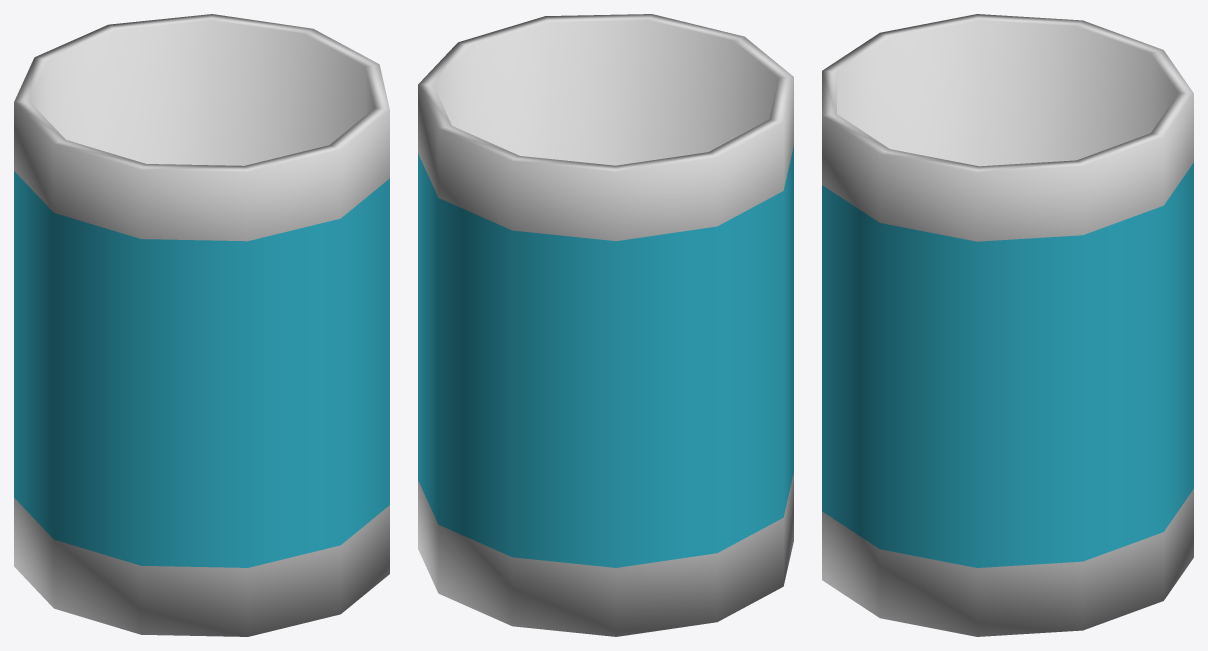
File: pills.fbx
The picture shows the model from 3 angles, left to right: view 1: azimuth 30°, elevation 25°; view 2: azimuth 150°, elevation 25°; view 3: azimuth 270°, elevation 25°; orthographic projection.
Visible parts, largest first — view 1: Cylinder.002; view 2: Cylinder.002; view 3: Cylinder.002.
Boxes of the visible parts, <box> form: Cylinder.002: <box>14,14,389,636</box>; Cylinder.002: <box>418,14,793,636</box>; Cylinder.002: <box>822,14,1193,636</box>.
Size of the model in its own units: 1.93 by 2.64 by 1.91.
